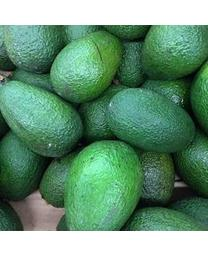avocado: (66, 140, 141, 229), (1, 77, 82, 159), (107, 88, 194, 153), (50, 31, 122, 103)
